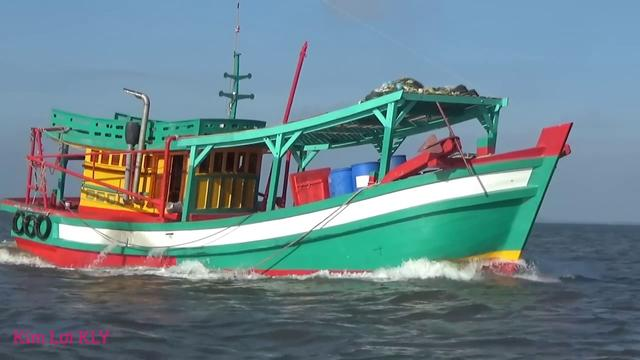Ship: (16, 82, 572, 286)
